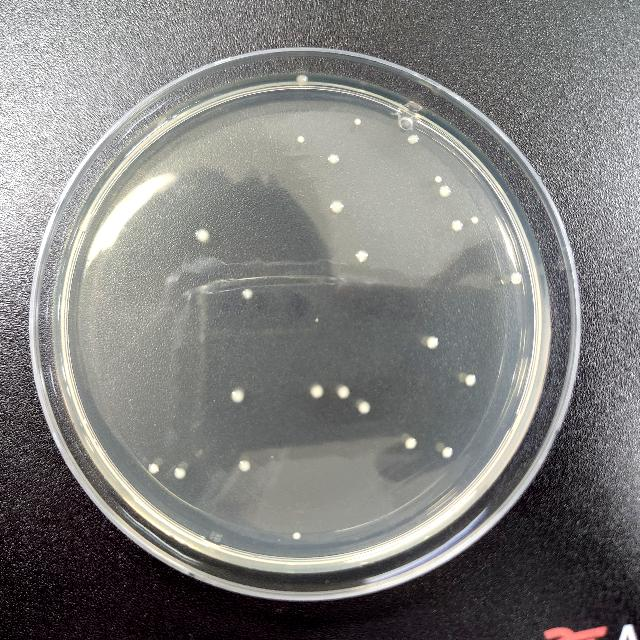colony: (230, 388, 244, 404), (310, 382, 324, 398), (336, 384, 350, 400), (196, 228, 210, 244), (426, 334, 439, 350), (356, 400, 370, 414), (330, 200, 344, 214), (404, 436, 418, 449), (356, 249, 368, 263), (440, 185, 452, 199), (451, 220, 464, 232), (511, 271, 522, 285), (464, 374, 476, 386), (296, 74, 308, 86), (239, 460, 251, 472), (148, 462, 160, 474), (442, 446, 453, 458), (242, 289, 254, 299), (328, 154, 340, 164), (174, 468, 186, 478), (408, 134, 418, 144), (472, 215, 480, 225), (354, 118, 362, 126), (293, 532, 301, 540), (298, 136, 304, 144), (436, 175, 442, 182), (314, 318, 320, 322)
